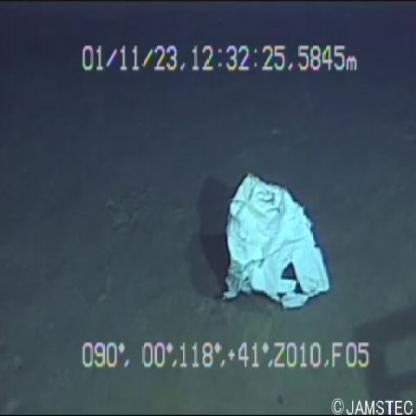Rác: (202, 159, 340, 319)
